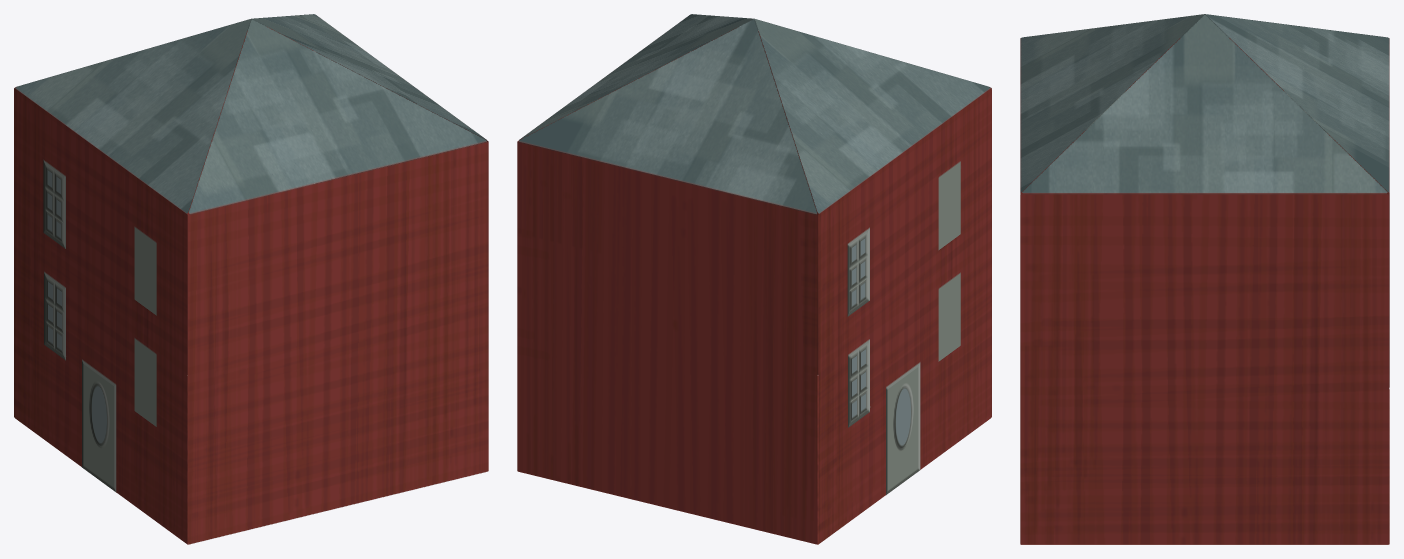
Rendered from House1.fbx.
The picture shows the model from 3 angles, left to right: view 1: azimuth 30°, elevation 25°; view 2: azimuth 150°, elevation 25°; view 3: azimuth 270°, elevation 25°; orthographic projection. The views are drawn at different scales.
Visible parts, largest first — view 1: house1; view 2: house1; view 3: house1.
Boxes of the visible parts, x1,y1,x2,y2 form: house1: [14, 14, 488, 544]; house1: [517, 14, 991, 544]; house1: [1020, 14, 1389, 544].
Bounding box in the file's own units: 3.7 × 5 × 3.7.
Materials: 1 (1 with a texture image).
